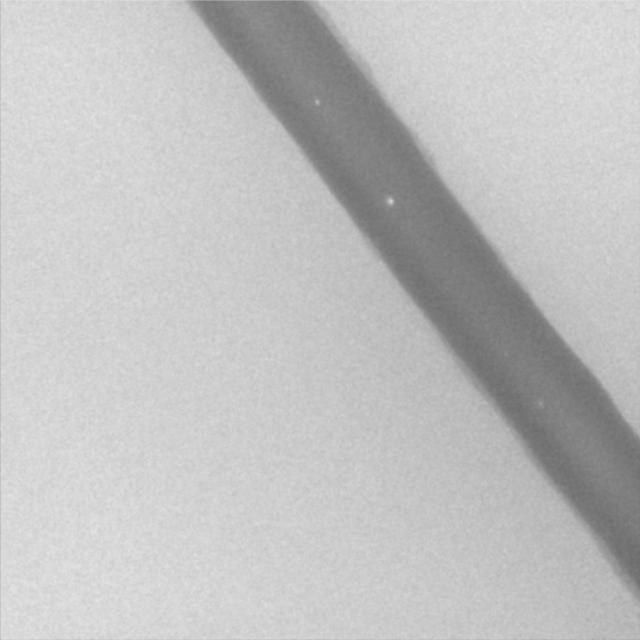air hole: (383, 195, 393, 205), (312, 95, 320, 105)
